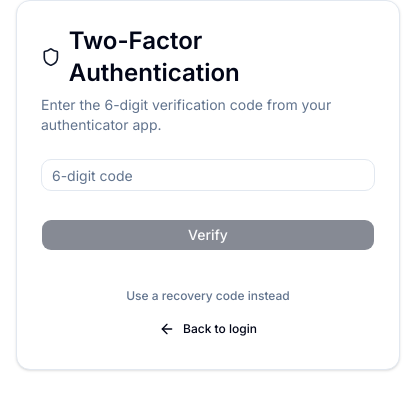
Scenario: LoginForm Component › 2FA Challenge Stage › switches back to standard login on Back to login click
The image size is (417, 415).
Click the button "Back to login" at (208, 329), box [41,313,375,345]
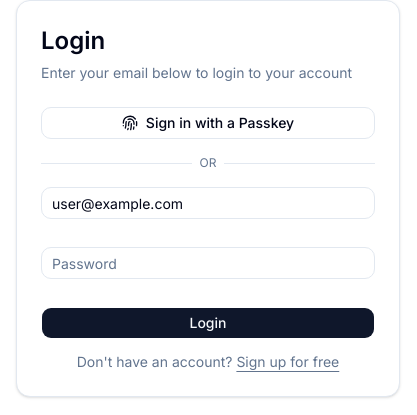
Now the text "Two-Factor Authentication" is gone
Now the field with placeholder "Email" is shown, box [41,187,375,219]
Now the password field with placeholder "Password" is shown, box [41,247,375,279]
